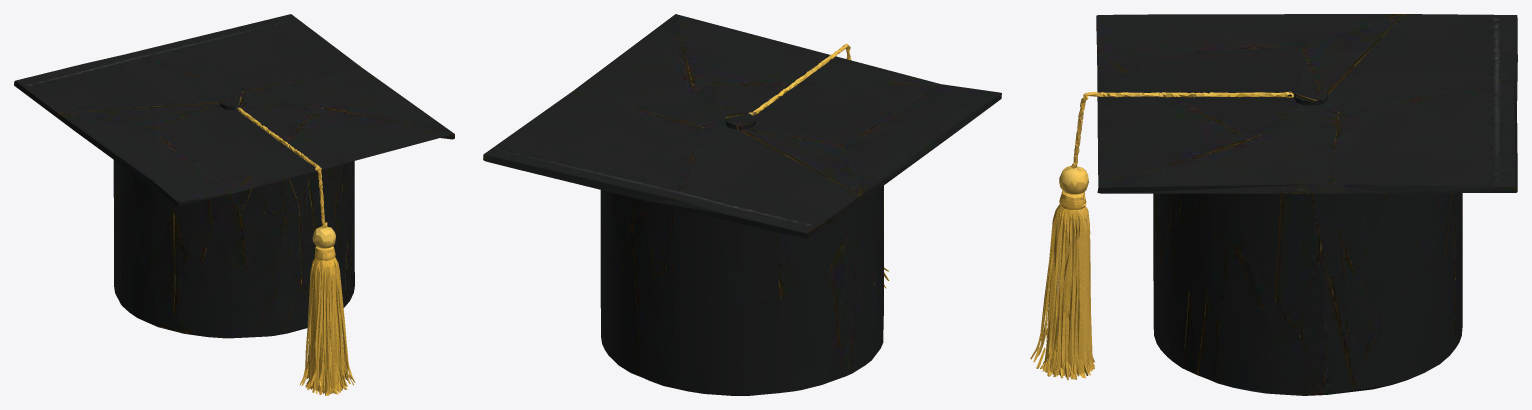
File: grad-cap.glb
3 renders of one model, left to right at view 1: azimuth 30°, elevation 25°; view 2: azimuth 150°, elevation 25°; view 3: azimuth 270°, elevation 25°, orthographic. The views are drawn at different scales.
Size of the model in its own units: 0.8396 by 0.6257 by 1.
Materials: 1 (1 with a texture image).
